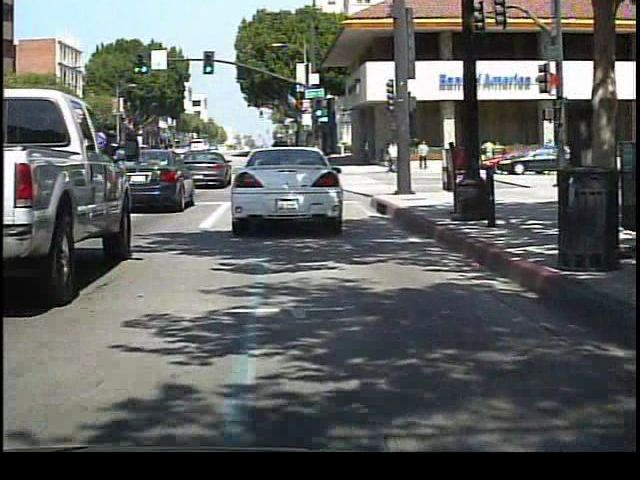person: (479, 136, 498, 171), (415, 138, 432, 170), (385, 139, 398, 175)
